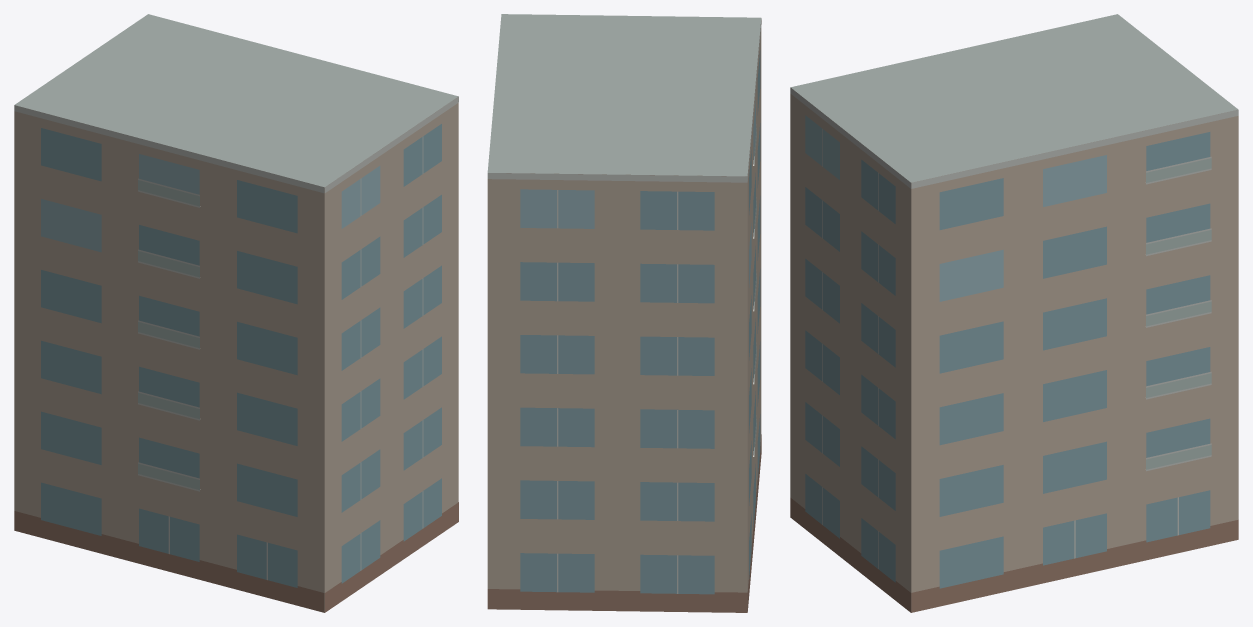
Rendered from survey-upis-32742492.glb.
3 renders of one model, left to right at view 1: azimuth 30°, elevation 25°; view 2: azimuth 150°, elevation 25°; view 3: azimuth 270°, elevation 25°, orthographic. The views are drawn at different scales.
Parts seen in each view (by area): view 1: survey-upis-32742492.tmp; view 2: survey-upis-32742492.tmp; view 3: survey-upis-32742492.tmp.
Part boxes in pixels (<box>): survey-upis-32742492.tmp: <box>14,14,458,612</box>; survey-upis-32742492.tmp: <box>487,14,761,612</box>; survey-upis-32742492.tmp: <box>790,14,1238,612</box>.
Size of the model in its own units: 14.23 by 16.9 by 15.97.
